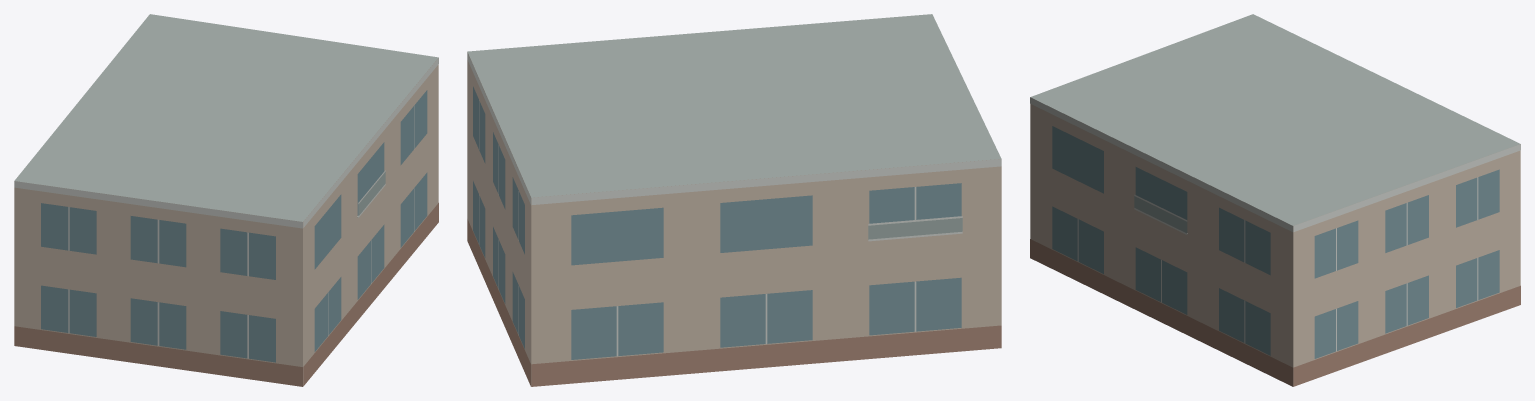
Rendered from survey-upis-32679553.glb.
3 views of the same model, side by side, from view 1: azimuth 30°, elevation 25°; view 2: azimuth 150°, elevation 25°; view 3: azimuth 270°, elevation 25° (orthographic). The views are drawn at different scales.
Visible parts, largest first — view 1: survey-upis-32679553.tmp; view 2: survey-upis-32679553.tmp; view 3: survey-upis-32679553.tmp.
Boxes of the visible parts, x1=… form: survey-upis-32679553.tmp: x1=14, y1=14, x2=438, y2=386; survey-upis-32679553.tmp: x1=467, y1=14, x2=1001, y2=386; survey-upis-32679553.tmp: x1=1030, y1=14, x2=1520, y2=386.
Size of the model in its own units: 17.24 by 6.1 by 16.86.
